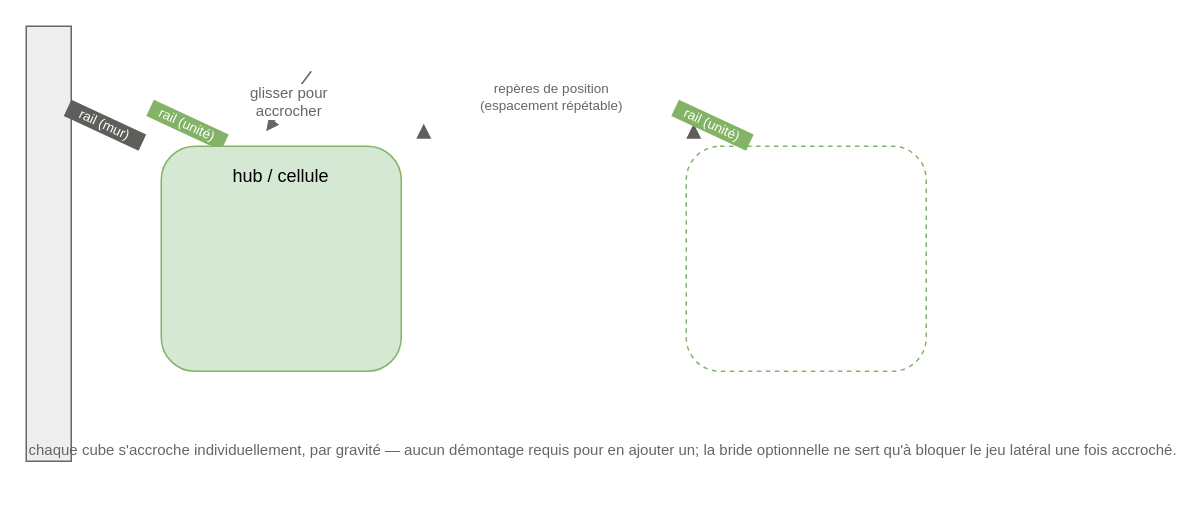
Some shapes in this 1203 by 518 pixel diagram are drawn without their labels. Each missing label, with the centre of its shape:
cellule future (ajoutée plus tard, même rail): [805,258]
mur: [48,243]
